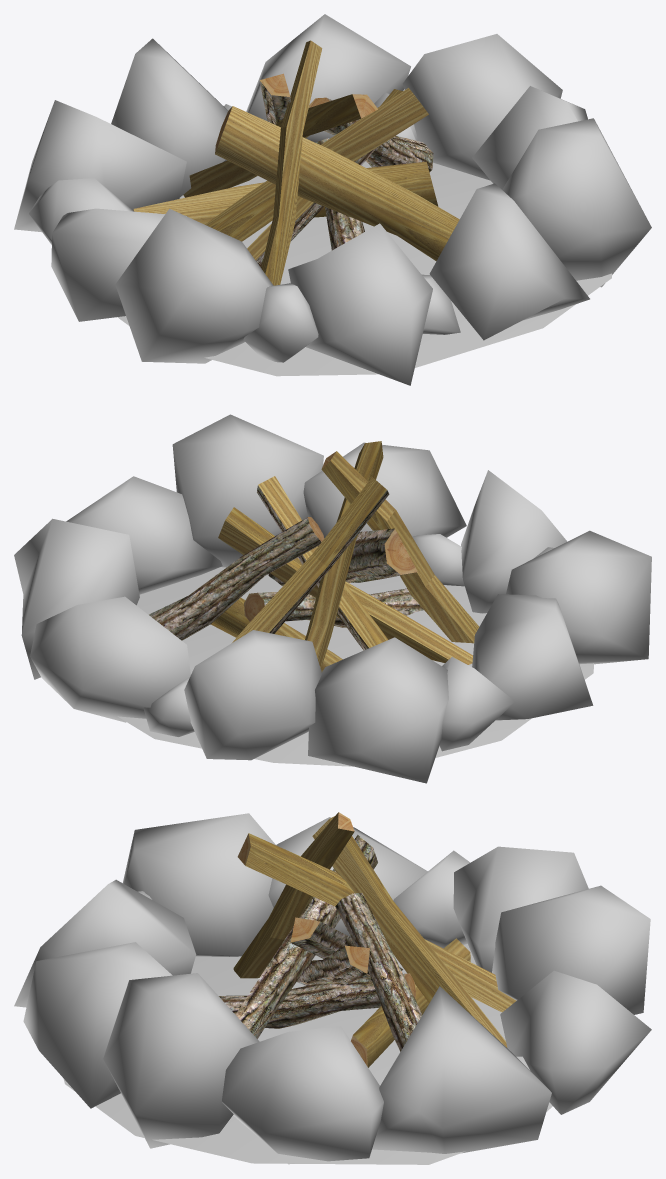
File: bonfire_fbx.FBX
The picture shows the model from 3 angles, top to bottom: view 1: azimuth 30°, elevation 25°; view 2: azimuth 150°, elevation 25°; view 3: azimuth 270°, elevation 25°; orthographic projection. The views are drawn at different scales.
Visible parts, largest first — view 1: camp, Object005, Object010, Object007, Object009, Object012, Object016, Object003, Object002, Object004, Object001, Object011 (+3 smaller); view 2: camp, Object003, Object001, Object002, Object005, Object010, Object004, Object012, Object016, Object011, Object007, Object009 (+3 smaller); view 3: camp, Object012, Object010, Object011, Object005, Object002, Object001, Object009, Object016, Object003, Object007, Object015 (+1 smaller).
Boxes of the visible parts, box(x1,y1,x2,y2) form: camp: box(133, 40, 459, 285); Object005: box(115, 208, 273, 363); Object010: box(502, 118, 651, 287); Object007: box(288, 223, 432, 385); Object009: box(429, 183, 589, 340); Object012: box(402, 34, 562, 180); Object016: box(117, 161, 611, 376); Object003: box(14, 100, 186, 232); Object002: box(111, 38, 227, 197); Object004: box(51, 208, 186, 321); Object001: box(246, 14, 410, 142); Object011: box(472, 86, 587, 189); camp: box(149, 441, 479, 672); Object003: box(308, 637, 448, 783); Object001: box(30, 596, 190, 722); Object002: box(184, 630, 321, 760); Object005: box(506, 530, 651, 664); Object010: box(172, 414, 323, 567); Object004: box(472, 594, 593, 720); Object012: box(14, 518, 139, 679); Object016: box(117, 567, 593, 766); Object011: box(66, 476, 222, 594); Object007: box(461, 470, 567, 613); Object009: box(303, 442, 466, 537); camp: box(219, 812, 516, 1067); Object012: box(372, 986, 551, 1153); Object010: box(103, 973, 259, 1148); Object011: box(222, 1026, 383, 1164); Object005: box(123, 813, 276, 956); Object002: box(492, 885, 650, 1014); Object001: box(500, 970, 651, 1114); Object009: box(23, 942, 172, 1108); Object016: box(63, 943, 552, 1164); Object003: box(453, 846, 588, 972); Object007: box(14, 879, 196, 1007); Object015: box(393, 850, 470, 948).
Bounding box in the file's own units: 90.47 × 36.9 × 89.56.
